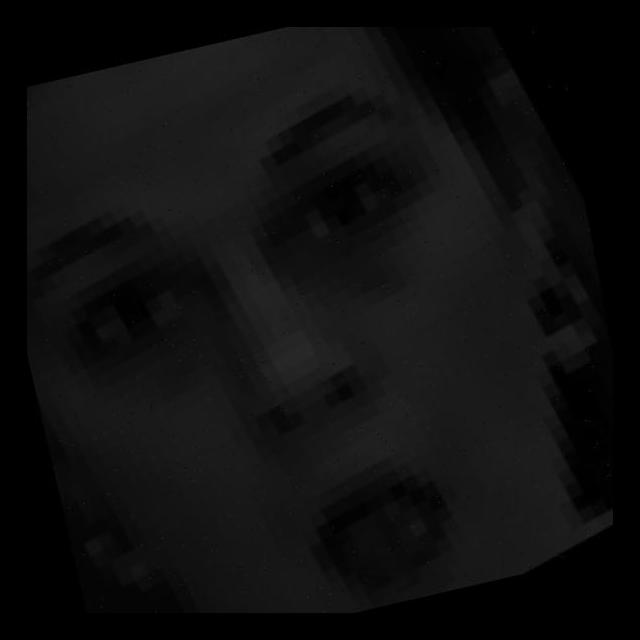Surprised: (36, 107, 561, 613)
